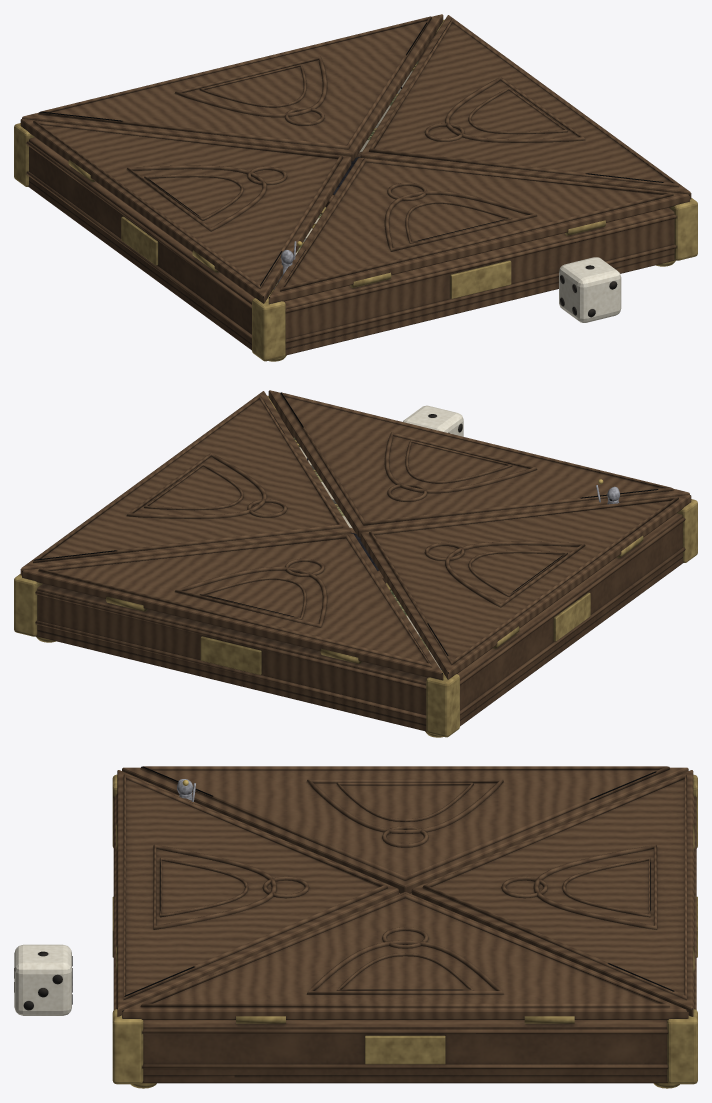
The model's file is TAB_Tabuleiro.glb.
The picture shows the model from 3 angles, top to bottom: view 1: azimuth 30°, elevation 25°; view 2: azimuth 150°, elevation 25°; view 3: azimuth 270°, elevation 25°; orthographic projection. The views are drawn at different scales.
Parts seen in each view (by area): view 1: TAB_Caixa, TAB_Tampa_S, TAB_Tampa_W, TAB_Tampa_N, TAB_Tampa_E, TAB_Dado, TAB_Tabuleiro; view 2: TAB_Caixa, TAB_Tampa_N, TAB_Tampa_W, TAB_Tampa_S, TAB_Tampa_E, TAB_Dado, TAB_Tabuleiro; view 3: TAB_Caixa, TAB_Tampa_E, TAB_Tampa_W, TAB_Tampa_N, TAB_Tampa_S, TAB_Dado.
Part boxes in pixels (box(x1,y1,x2,y2)): TAB_Caixa: box(14, 19, 697, 361); TAB_Tampa_S: box(268, 157, 689, 304); TAB_Tampa_W: box(20, 119, 351, 303); TAB_Tampa_N: box(22, 14, 443, 161); TAB_Tampa_E: box(360, 15, 691, 199); TAB_Dado: box(559, 257, 621, 322); TAB_Tabuleiro: box(270, 61, 418, 294); TAB_Caixa: box(14, 395, 697, 737); TAB_Tampa_N: box(22, 533, 443, 680); TAB_Tampa_W: box(360, 495, 691, 679); TAB_Tampa_S: box(268, 390, 689, 537); TAB_Tampa_E: box(20, 391, 351, 575); TAB_Dado: box(403, 405, 463, 436); TAB_Tabuleiro: box(293, 437, 441, 670); TAB_Caixa: box(112, 774, 697, 1088); TAB_Tampa_E: box(122, 892, 688, 1019); TAB_Tampa_W: box(122, 766, 688, 893); TAB_Tampa_N: box(411, 770, 693, 1016); TAB_Tampa_S: box(117, 770, 398, 1016); TAB_Dado: box(14, 944, 72, 1015).
Size of the model in its own units: 3.04 by 0.61 by 3.55.
3 materials, 3 textured.
